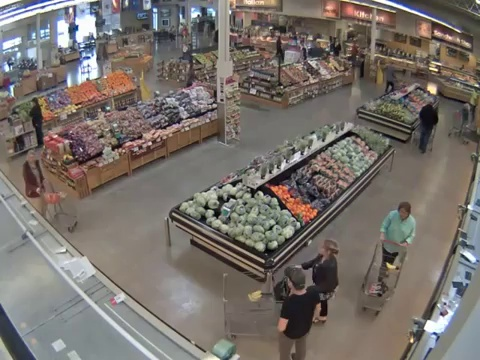face: (399, 204, 410, 220), (26, 153, 35, 162)
